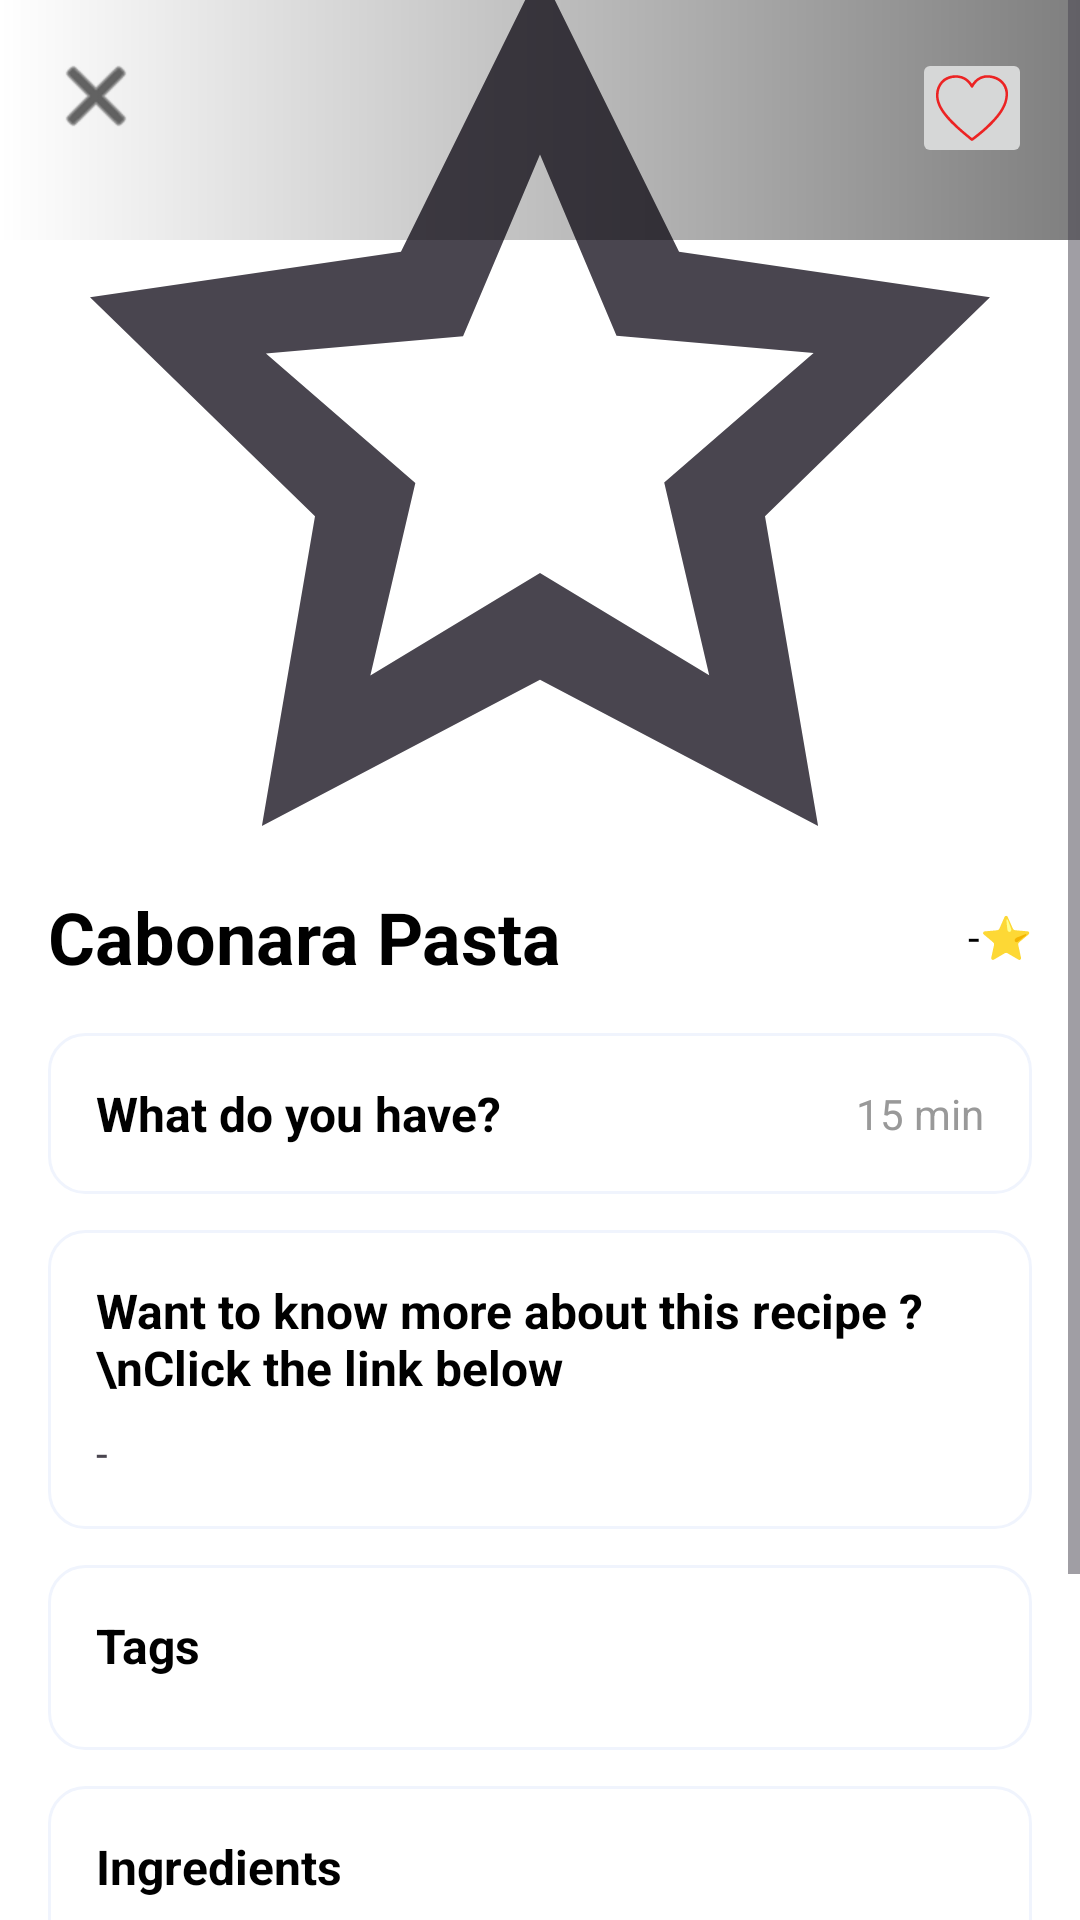

Icons on this 1080 × 1920 Android screen, each with its box as bbox(x1, y1, x2, y2):
Close: bbox(66, 66, 126, 126)
favorite border: bbox(924, 66, 1020, 150)
